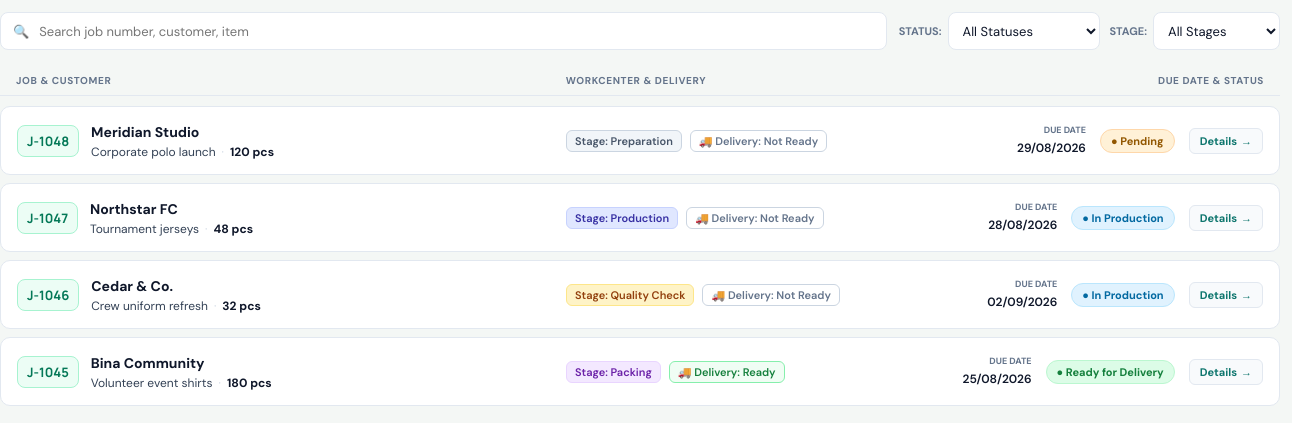
Test: Jobs Feature Interactive Journey (AT-03, AT-06) › renders JobBoard with desktop and mobile views and supports searching/filtering
Check: the button with test id "job-row-J-1048" is shown, box [0, 106, 1280, 175]
Note: Search filter
Type "Northstar" into the field named "Search jobs". click: (455,31)
box: [37, 22, 874, 40]
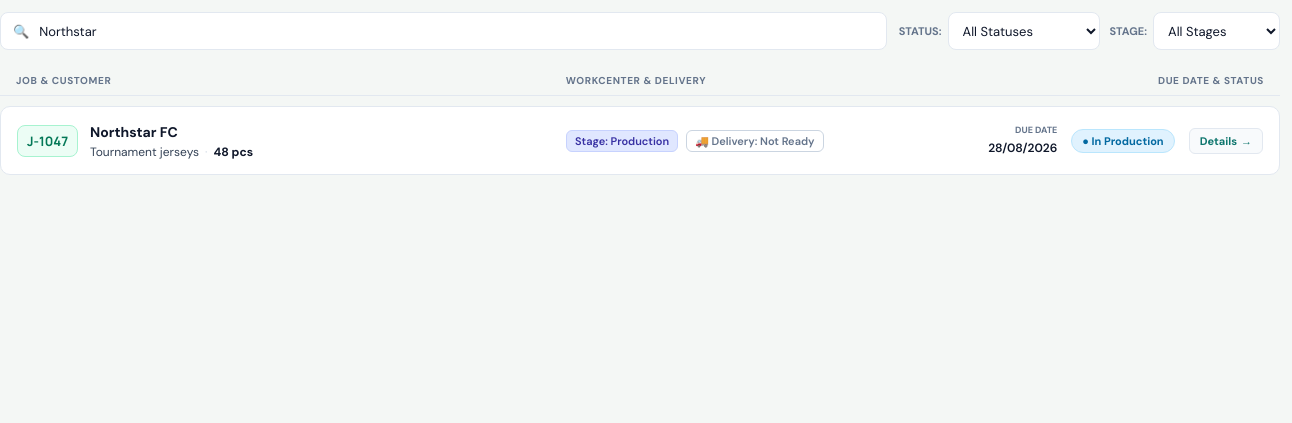
Check: the button with test id "job-row-J-1047" is shown, box [0, 106, 1280, 175]
Check: the button with test id "job-row-J-1048" is gone
Note: No matching results shows empty state
Replace the text in the field named "Search jobs" with "NonexistentOrder". click: (455,31)
box: [37, 22, 874, 40]
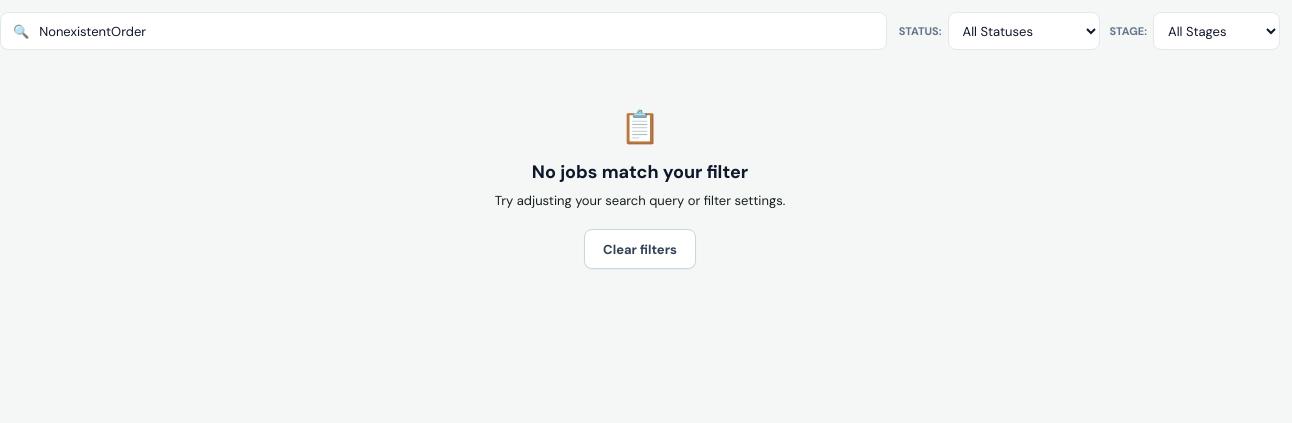
Check: the element with test id "jobs-empty-state" is shown, box [495, 106, 785, 269]
Check: the heading "No jobs match your filter" is shown, box [532, 160, 748, 184]
